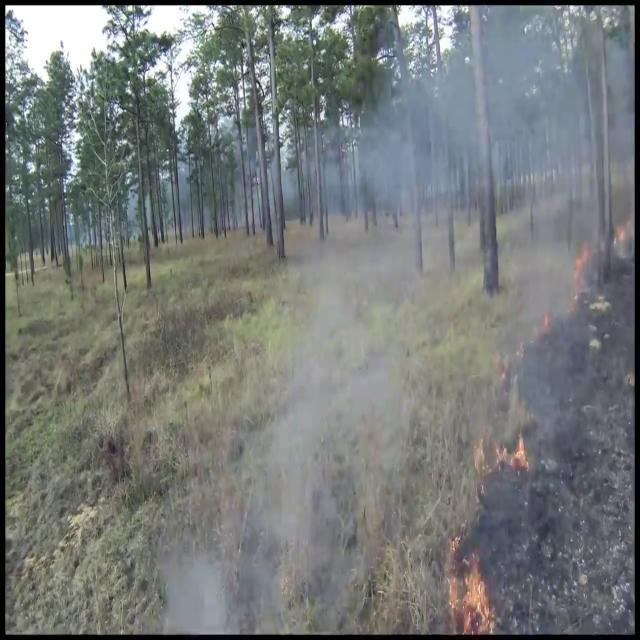Fire: (460, 551, 494, 623), (495, 416, 534, 476)
Smoke: (239, 7, 627, 621)
